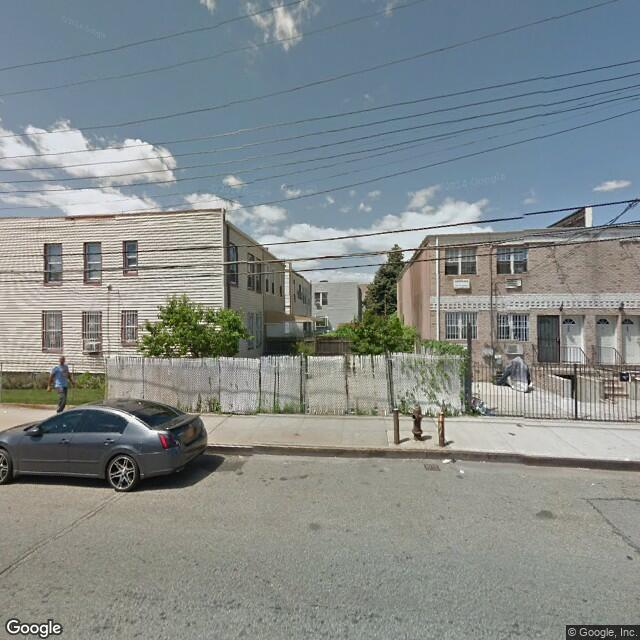litter: (440, 458, 453, 463), (459, 469, 465, 476)
